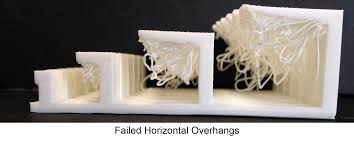fail: (215, 13, 327, 95), (137, 34, 206, 101), (74, 61, 106, 100)
